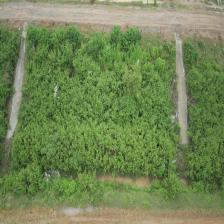vegetation: (0, 26, 180, 198), (185, 54, 224, 189)
